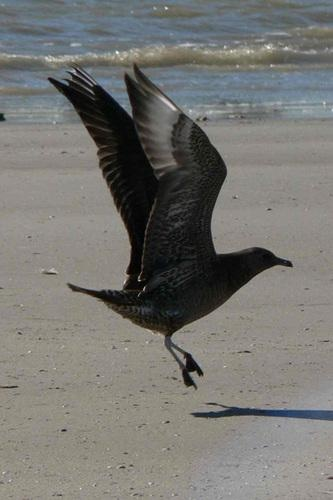bird: (41, 69, 293, 394)
